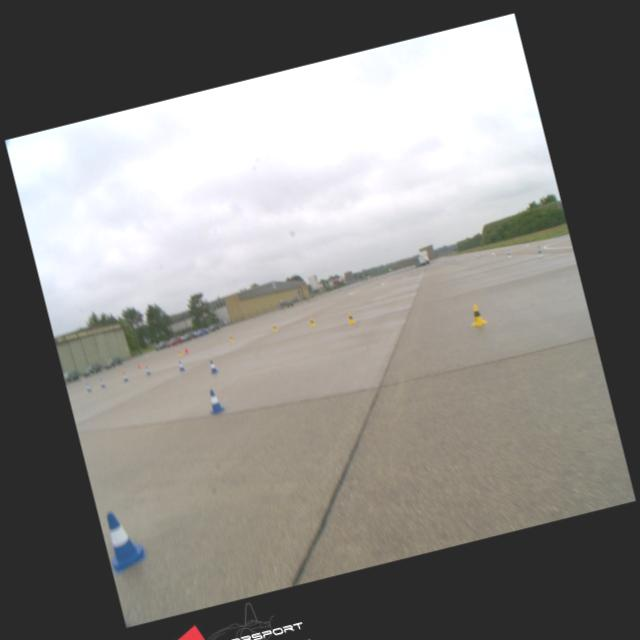blue_cone: (100, 507, 148, 573), (205, 388, 225, 413), (208, 358, 218, 374), (177, 360, 186, 371)
yellow_cone: (468, 302, 487, 326), (346, 312, 355, 324), (308, 317, 316, 327), (272, 323, 278, 331)
